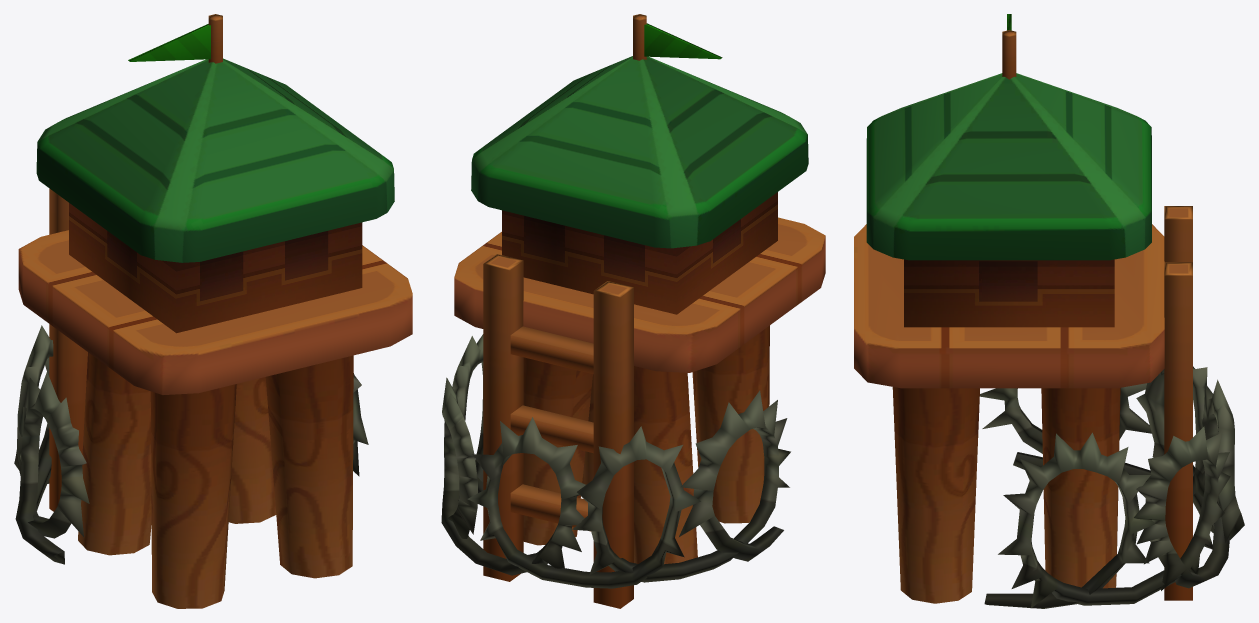
The model's file is FiringRangeOdysseyStatue.fbx.
The picture shows the model from 3 angles, left to right: view 1: azimuth 30°, elevation 25°; view 2: azimuth 150°, elevation 25°; view 3: azimuth 270°, elevation 25°; orthographic projection. The views are drawn at different scales.
Visible parts, largest first — view 1: FiringRangeOdysseyStatue; view 2: FiringRangeOdysseyStatue; view 3: FiringRangeOdysseyStatue.
Boxes of the visible parts, x1,y1,x2,y2 form: FiringRangeOdysseyStatue: [14, 14, 412, 608]; FiringRangeOdysseyStatue: [441, 14, 825, 608]; FiringRangeOdysseyStatue: [854, 14, 1244, 608].
Size of the model in its own units: 15.27 by 24.87 by 16.56.
